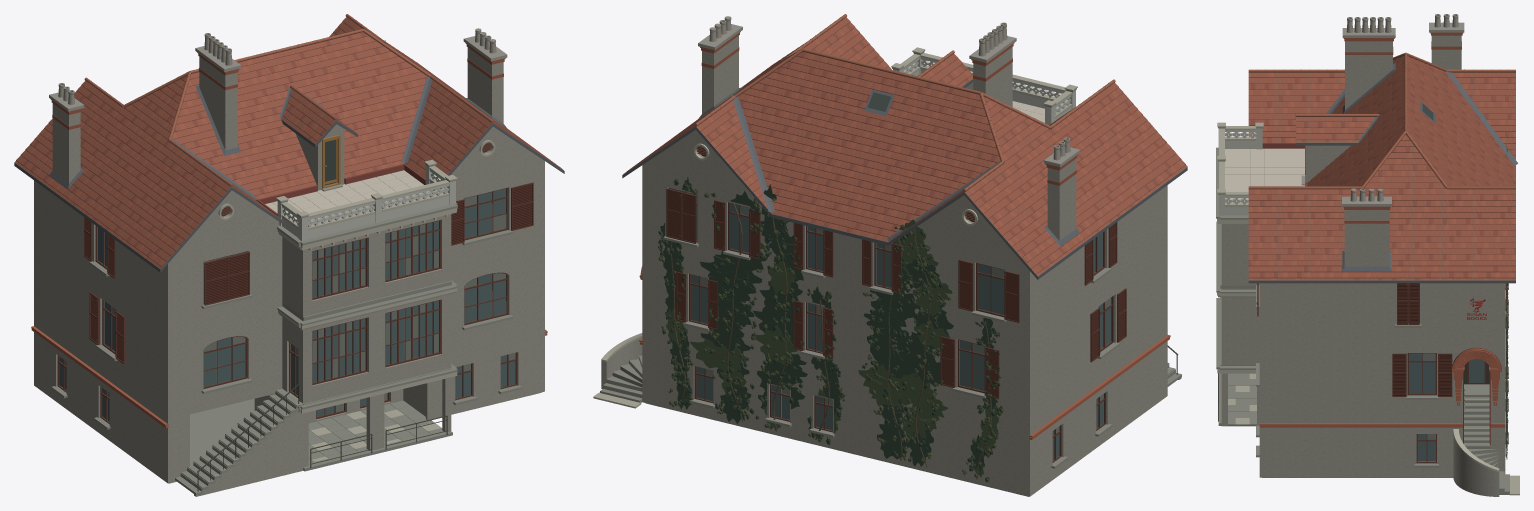
Rendered from huangpu-liu-yazi-residence-fuxing-517-raw.glb.
3 renders of one model, left to right at view 1: azimuth 30°, elevation 25°; view 2: azimuth 150°, elevation 25°; view 3: azimuth 270°, elevation 25°, orthographic. The views are drawn at different scales.
Parts seen in each view (by area): view 1: 柳亚子旧居（思南书局）主楼与东侧砖券入口; view 2: 柳亚子旧居（思南书局）主楼与东侧砖券入口; view 3: 柳亚子旧居（思南书局）主楼与东侧砖券入口.
Boxes of the visible parts, <box> form: 柳亚子旧居（思南书局）主楼与东侧砖券入口: <box>14,14,564,496</box>; 柳亚子旧居（思南书局）主楼与东侧砖券入口: <box>593,14,1187,496</box>; 柳亚子旧居（思南书局）主楼与东侧砖券入口: <box>1216,14,1519,496</box>.
Bounding box in the file's own units: 20.38 × 16.72 × 13.49.
33 materials, 1 textured.
